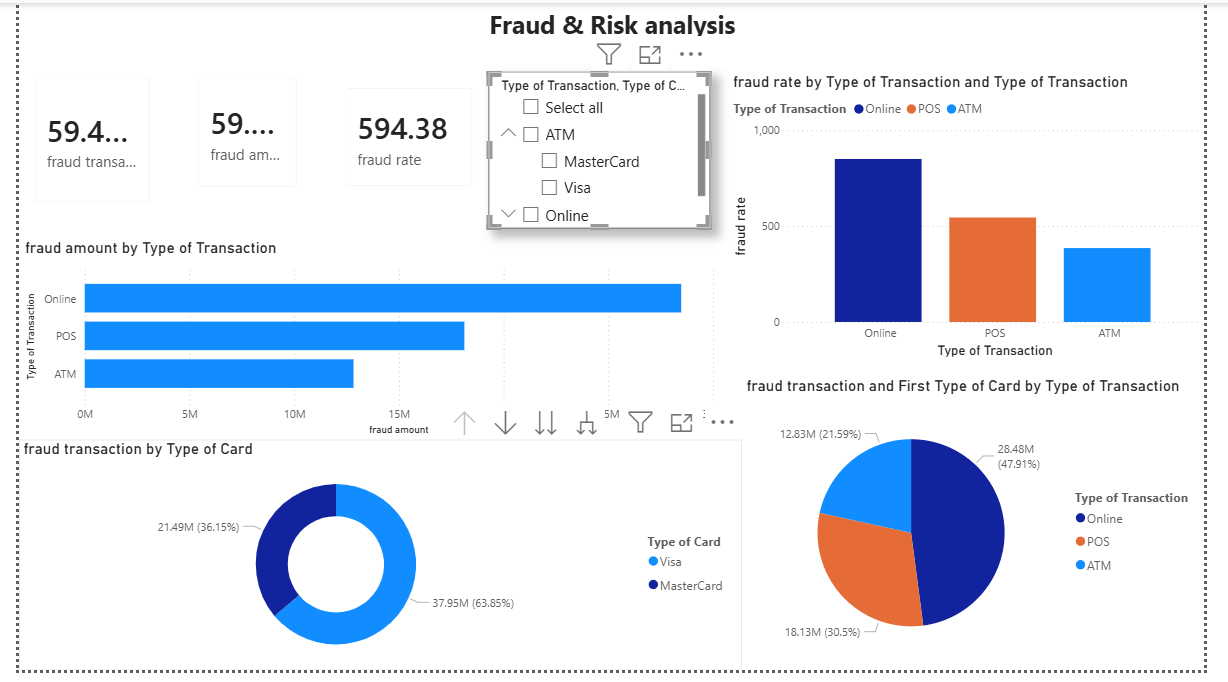

This screenshot's page, from the dashboard's own definition file:
{"tool":"powerbi","page":{"name":"Fraud & Risk analysis","canvas":[1280,720],"ordinal":2},"visuals":[{"type":"textbox","box":[0,0,1280.8,63.1],"z":0},{"type":"cardVisual","fields":{"Data":["CreditCardData_Cleaned.fraud transaction"]},"box":[0,63.1,158.7,168.4],"z":1},{"type":"cardVisual","fields":{"Data":["CreditCardData_Cleaned.fraud amount"]},"box":[176.5,63.1,140.9,152.2],"z":2},{"type":"cardVisual","fields":{"Data":["CreditCardData_Cleaned.fraud rate"]},"box":[335.2,74.5,171.6,140.9],"z":3},{"type":"columnChart","fields":{"Category":["CreditCardData_Cleaned.Type of Transaction"],"Y":["CreditCardData_Cleaned.fraud rate"],"Series":["CreditCardData_Cleaned.Type of Transaction"]},"box":[765.9,74.5,514.9,312.5],"z":4},{"type":"clusteredBarChart","fields":{"Y":["CreditCardData_Cleaned.fraud amount"],"Category":["CreditCardData_Cleaned.Type of Transaction"]},"box":[1.6,254.2,764.3,217],"z":5},{"type":"pieChart","fields":{"Category":["CreditCardData_Cleaned.Type of Transaction"],"Y":["CreditCardData_Cleaned.fraud transaction"]},"box":[780.5,403.2,500.3,317.4],"z":6},{"type":"donutChart","fields":{"Category":["CreditCardData_Cleaned.Type of Card","CreditCardData_Cleaned.Type of Transaction"],"Y":["CreditCardData_Cleaned.fraud transaction"]},"box":[0,471.2,780.5,249.4],"z":7},{"type":"slicer","fields":{"Values":["CreditCardData_Cleaned.Type of Transaction","CreditCardData_Cleaned.Type of Card"]},"box":[506.8,74.5,239.6,168.4],"z":8}]}

Visuals, with their boxes in screenshot pixels (x1, y1, x2, y2), scaled from the page's 1280x720 canvas onto the 1228x682 screenshot:
textbox: (0, 0, 1227, 60)
cardVisual - CreditCardData_Cleaned.fraud transaction: (0, 60, 152, 219)
cardVisual - CreditCardData_Cleaned.fraud amount: (169, 60, 305, 204)
cardVisual - CreditCardData_Cleaned.fraud rate: (322, 71, 486, 204)
columnChart - CreditCardData_Cleaned.Type of Transaction x CreditCardData_Cleaned.fraud rate: (735, 71, 1227, 367)
clusteredBarChart - CreditCardData_Cleaned.fraud amount x CreditCardData_Cleaned.Type of Transaction: (2, 241, 735, 446)
pieChart - CreditCardData_Cleaned.Type of Transaction x CreditCardData_Cleaned.fraud transaction: (749, 382, 1227, 681)
donutChart - CreditCardData_Cleaned.Type of Card x CreditCardData_Cleaned.Type of Transaction: (0, 446, 749, 681)
slicer - CreditCardData_Cleaned.Type of Transaction x CreditCardData_Cleaned.Type of Card: (486, 71, 716, 230)
